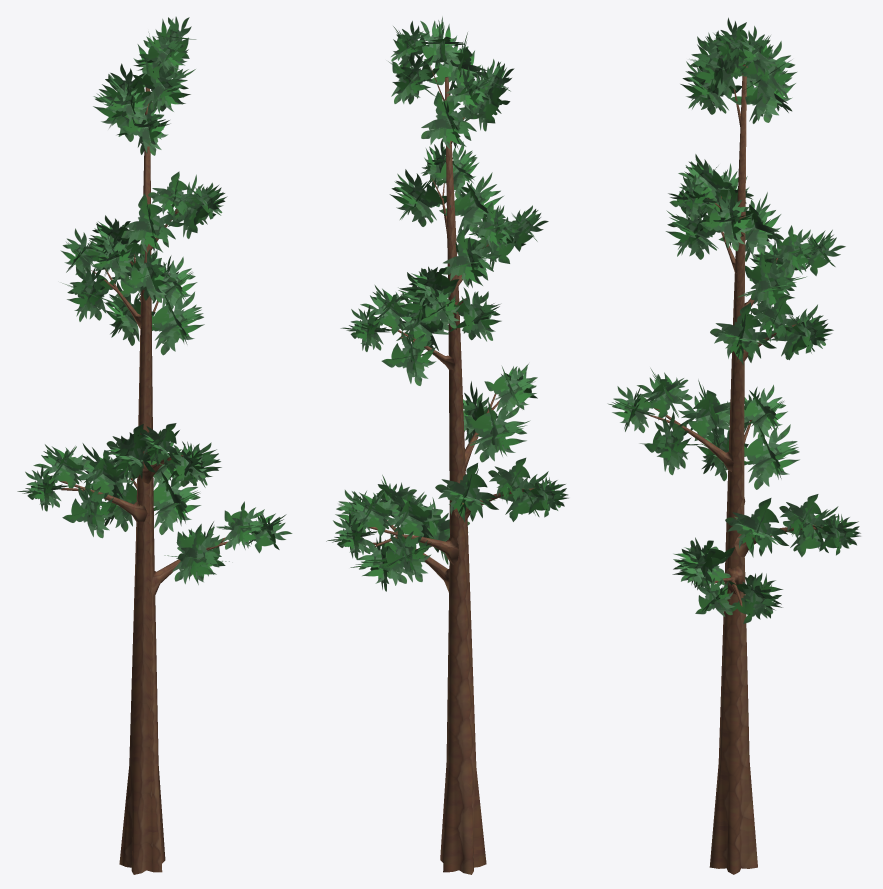
Rendered from SM_Tree_03.glb.
The picture shows the model from 3 angles, left to right: view 1: azimuth 30°, elevation 25°; view 2: azimuth 150°, elevation 25°; view 3: azimuth 270°, elevation 25°; orthographic projection. The views are drawn at different scales.
Parts seen in each view (by area): view 1: SM_Tree_03; view 2: SM_Tree_03; view 3: SM_Tree_03.
Boxes of the visible parts, <box> form: SM_Tree_03: <box>17,16,292,874</box>; SM_Tree_03: <box>326,16,568,874</box>; SM_Tree_03: <box>607,17,860,874</box>.
Bounding box in the file's own units: 5.36 × 17.02 × 4.73.
Materials: 2 (2 with a texture image).
